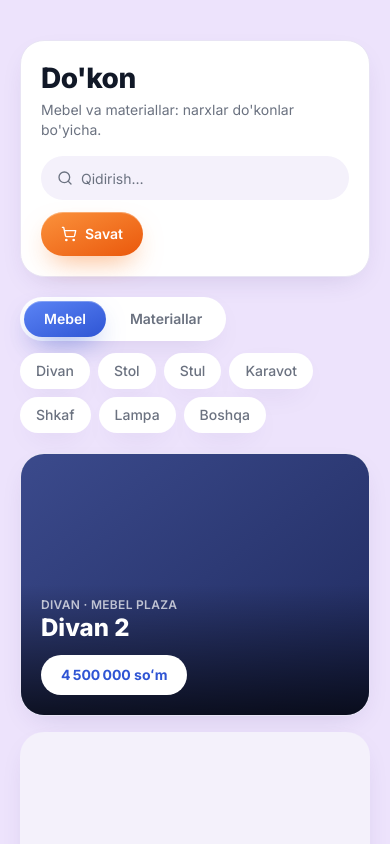
Scenario: ShopHome › searches the furniture by name
This screenshot has width=390, height=844.
Expected: the button "Divan · Mebel Plaza Divan 2 4 500 000 soʻm" is shown, [21,454,369,715]
In the search field labelled "Qidirish": (195, 178) [41,156,349,200], type "stol"
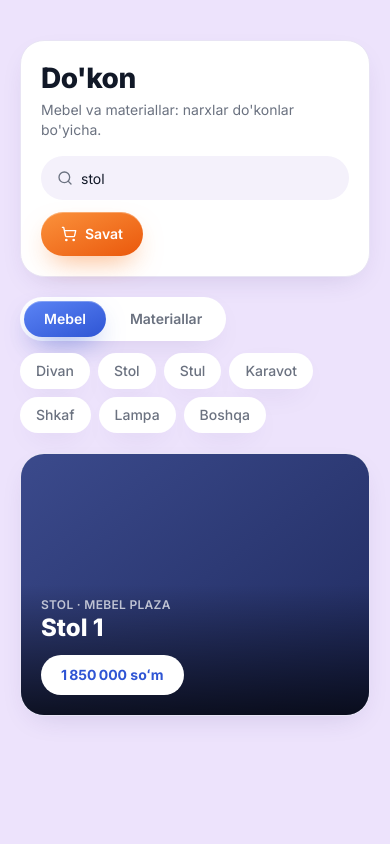
Expected: the button "Divan 2" is gone
Expected: the button "Stol · Mebel Plaza Stol 1 1 850 000 soʻm" is shown, [21,454,369,715]
